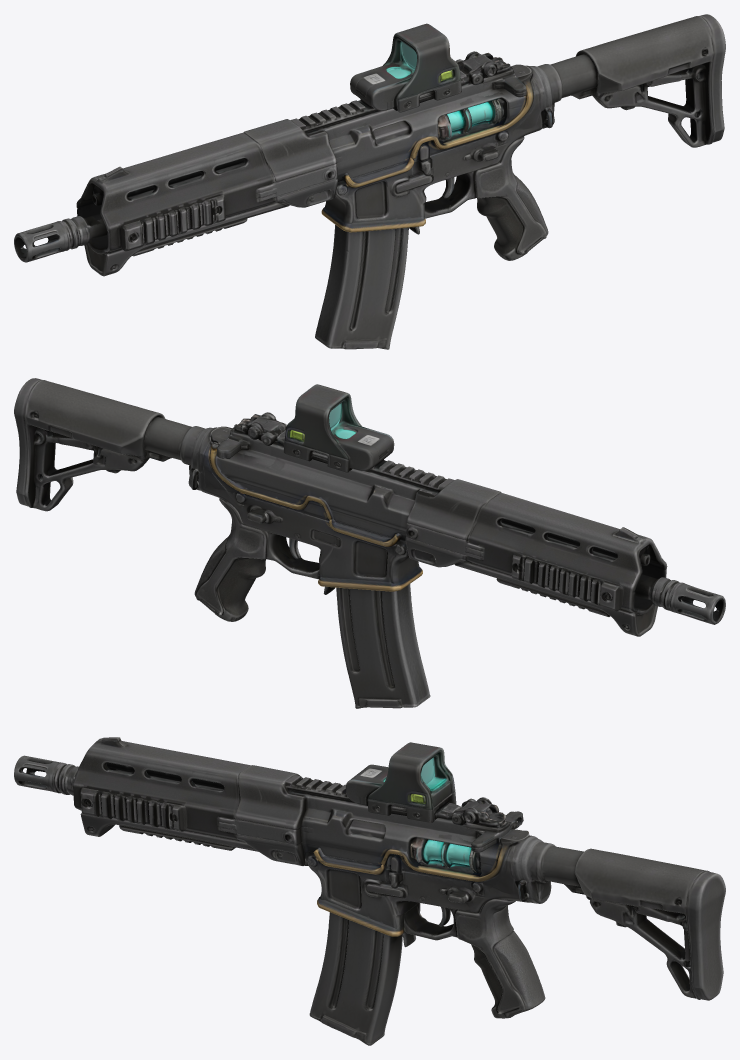
The model's file is auto_rifle.glb.
The picture shows the model from 3 angles, top to bottom: view 1: azimuth 30°, elevation 25°; view 2: azimuth 150°, elevation 25°; view 3: azimuth 330°, elevation 25°; orthographic projection.
Visible parts, largest first — view 1: tripo_node_9411cb4e-a28e-4298-b536-91fe3a2d92b1; view 2: tripo_node_9411cb4e-a28e-4298-b536-91fe3a2d92b1; view 3: tripo_node_9411cb4e-a28e-4298-b536-91fe3a2d92b1.
Part boxes in pixels (box(x1,y1,x2,y2)): tripo_node_9411cb4e-a28e-4298-b536-91fe3a2d92b1: box(14, 14, 725, 349); tripo_node_9411cb4e-a28e-4298-b536-91fe3a2d92b1: box(14, 378, 725, 708); tripo_node_9411cb4e-a28e-4298-b536-91fe3a2d92b1: box(14, 737, 725, 1045).
Size of the model in its own units: 0.64 by 0.2647 by 0.0721.
Materials: 1 (1 with a texture image).
